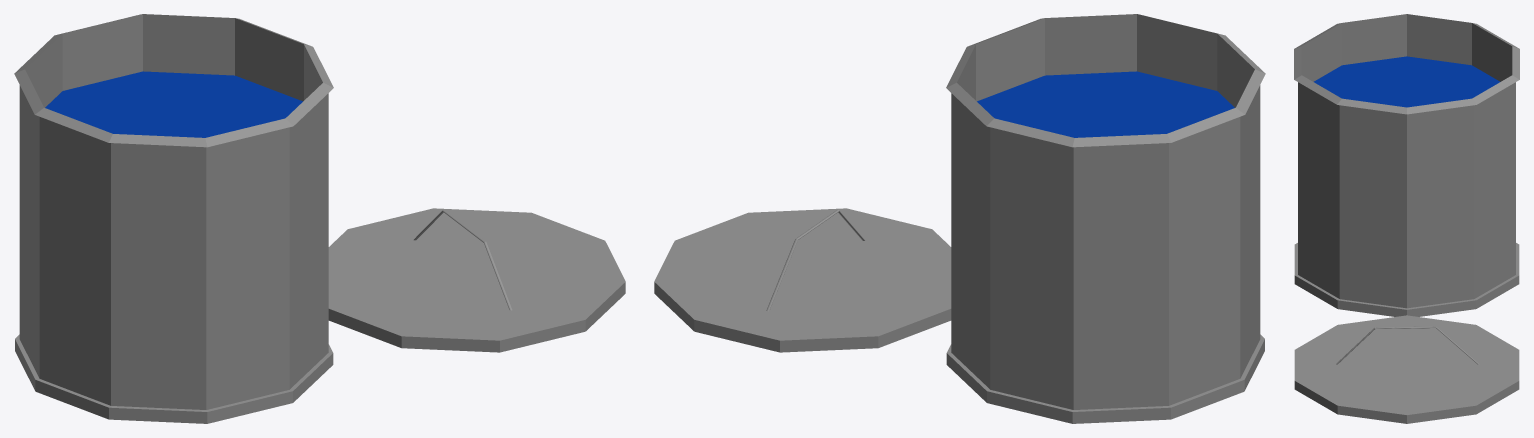
The model's file is cubo_pintura_azul.fbx.
3 views of the same model, side by side, from view 1: azimuth 30°, elevation 25°; view 2: azimuth 150°, elevation 25°; view 3: azimuth 270°, elevation 25° (orthographic). The views are drawn at different scales.
Visible parts, largest first — view 1: pCylinder3; view 2: pCylinder3; view 3: pCylinder3.
Part boxes in pixels (x1,y1,x2,y2): pCylinder3: (14,14,625,423); pCylinder3: (654,14,1265,423); pCylinder3: (1294,14,1519,423).
Bounding box in the file's own units: 4.11 × 1.94 × 1.91.
